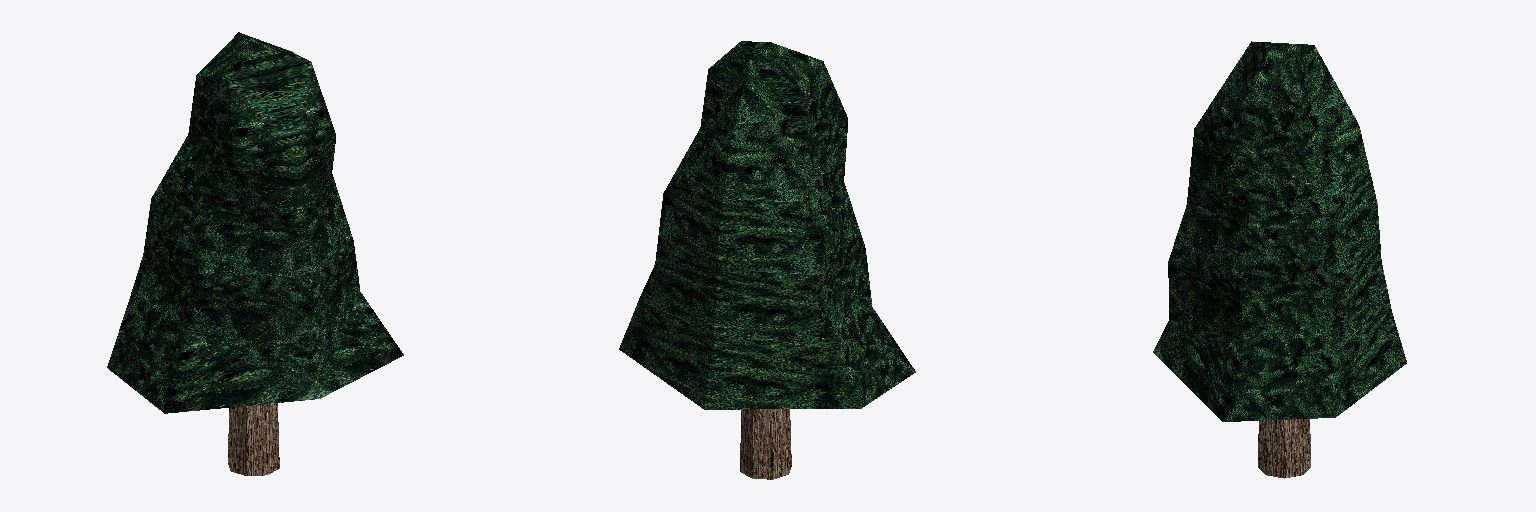
3 views of the same model, side by side, from view 1: azimuth 30°, elevation 25°; view 2: azimuth 150°, elevation 25°; view 3: azimuth 270°, elevation 25° (orthographic).
Parts seen in each view (by area): view 1: Cube_Cube.001, Cylinder; view 2: Cube_Cube.001, Cylinder; view 3: Cube_Cube.001, Cylinder.
Boxes of the visible parts, box(x1,y1,x2,y2) form: Cube_Cube.001: box(107, 32, 403, 413); Cylinder: box(228, 403, 279, 475); Cube_Cube.001: box(619, 41, 915, 409); Cylinder: box(740, 409, 791, 479); Cube_Cube.001: box(1153, 41, 1406, 421); Cylinder: box(1258, 419, 1310, 478).
Bounding box in the file's own units: 10.37 × 17.26 × 9.44.
2 materials, 2 textured.